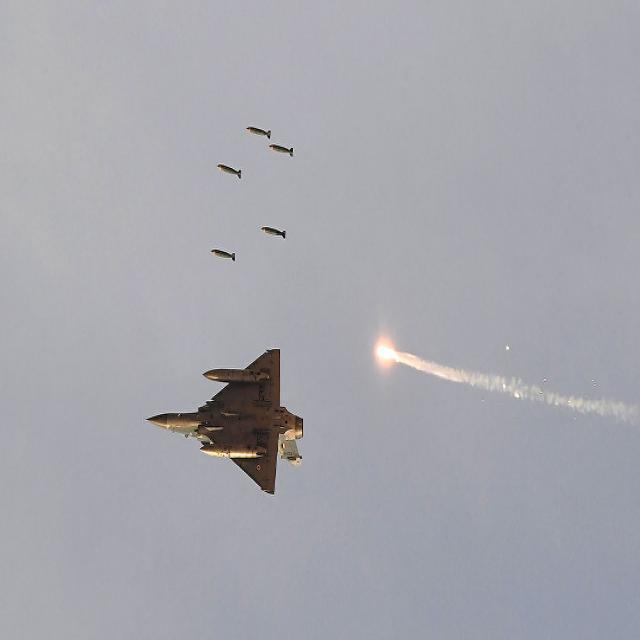missile: (203, 365, 279, 387), (197, 443, 268, 460), (259, 225, 288, 240), (208, 248, 238, 262), (243, 127, 274, 140), (217, 164, 243, 177), (271, 145, 295, 158)
